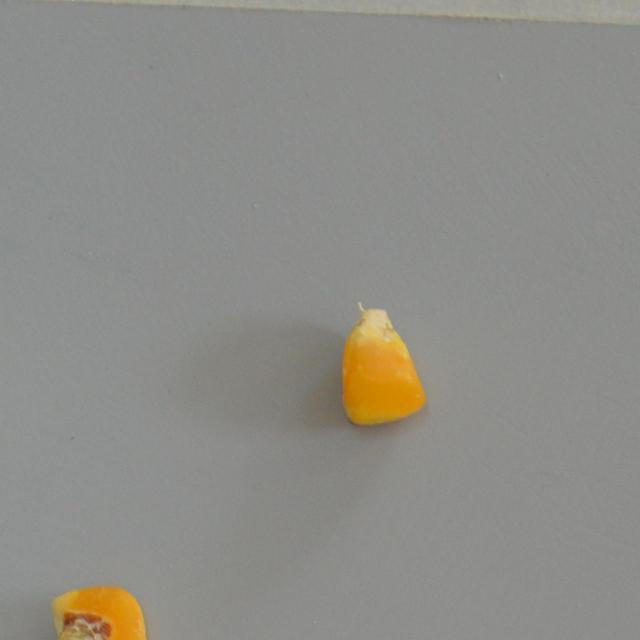dañado: (44, 578, 153, 640)
no_desgerminado: (330, 302, 428, 429)
